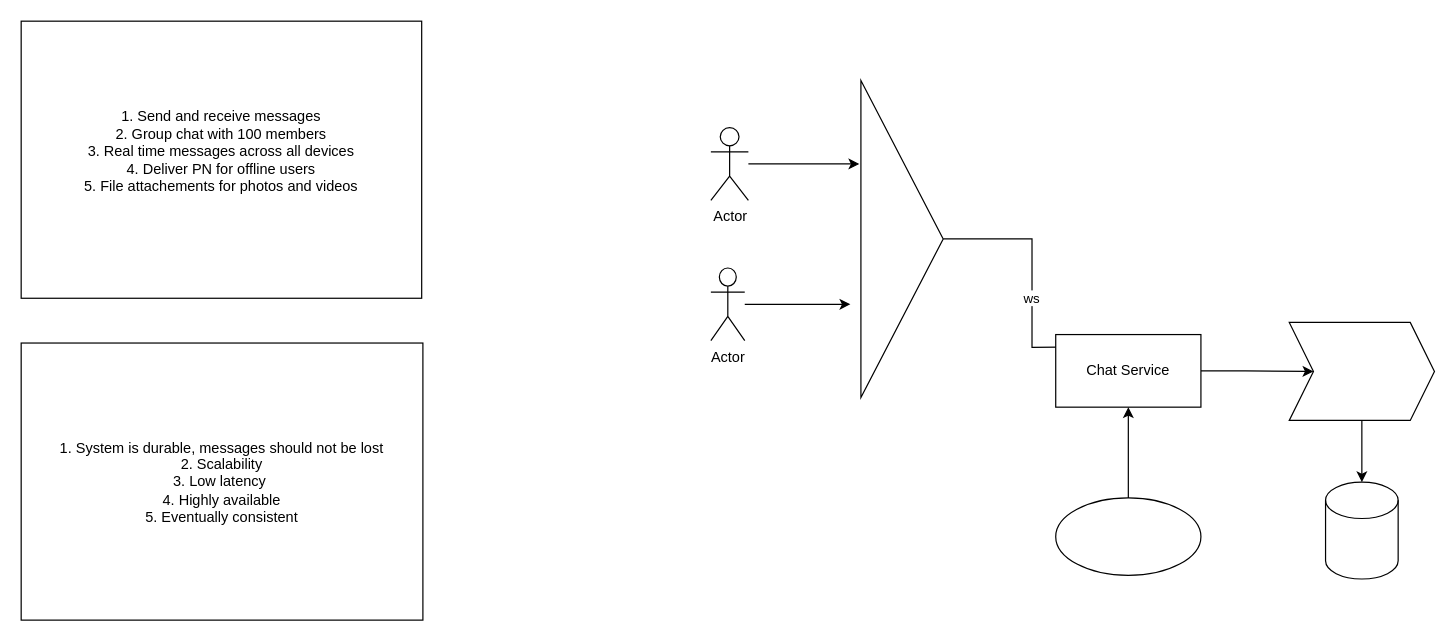
This 1456x641 diagram has some shape labels left out. The box of each missing label's shape, as (x1, y1, x2, y2) in pixels:
Message DB: (1324, 481, 1398, 579)
Snowflake serice: (1055, 497, 1201, 575)
